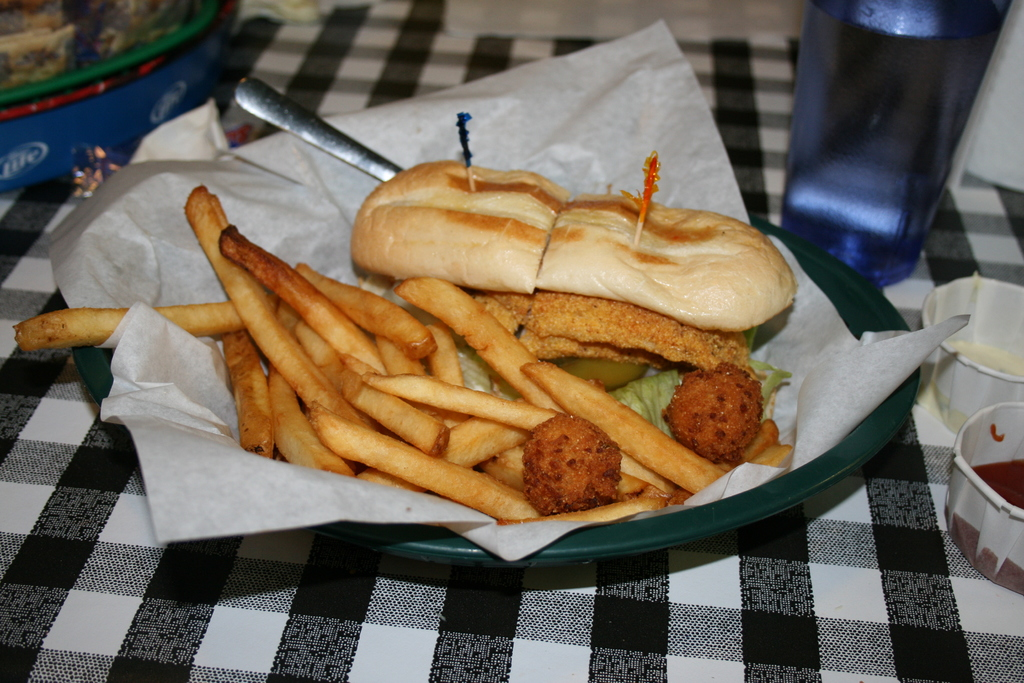French fries: (10, 182, 798, 529)
